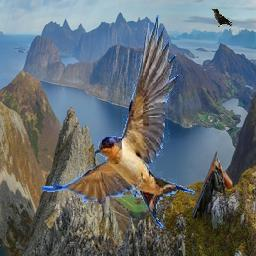Crow: (212, 9, 233, 28)
Swallow: (41, 16, 195, 229)
